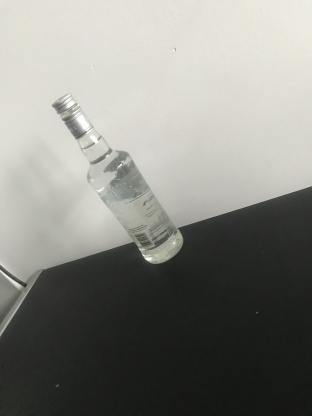nakretka: (50, 90, 94, 140)
